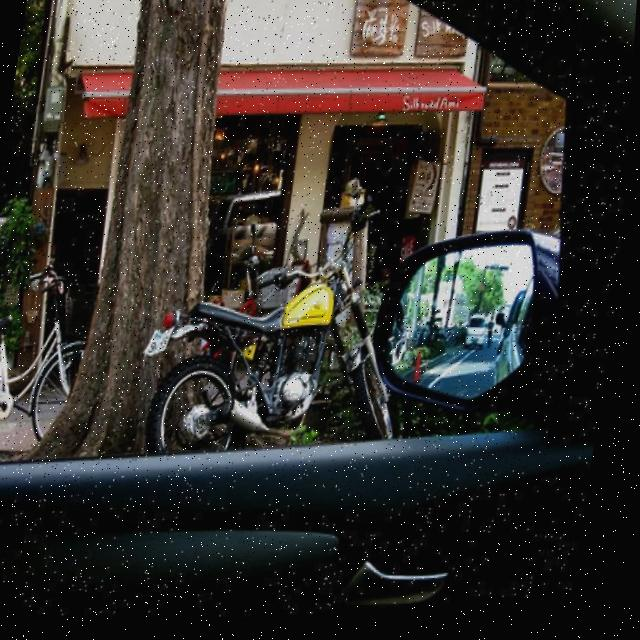motorcycle: (113, 217, 433, 478)
